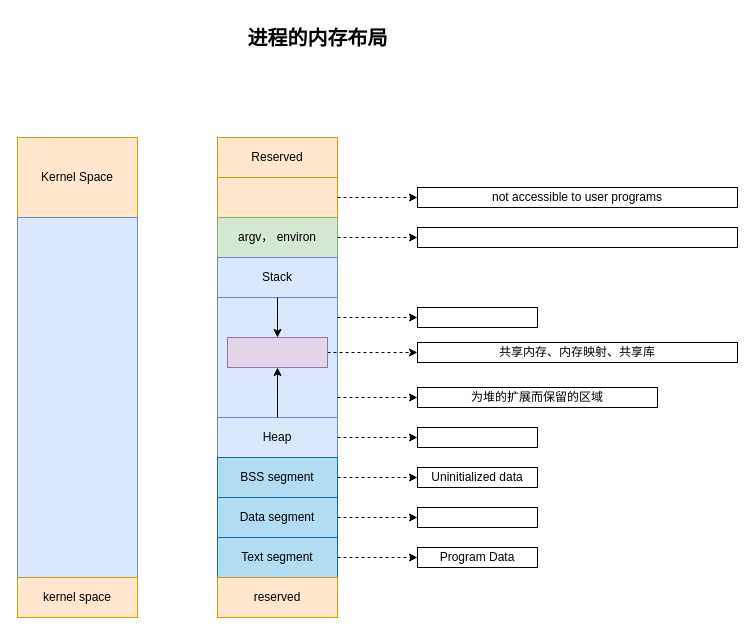
Image size: 755x635. Some labels were removed from this diagram. Each missing label, with the centre of its shape:
Initialized data: the point at 477,517
Kernel Data， text heap， stack: the point at 277,197
shared memory: the point at 277,352
User Space: the point at 77,397
命令行参数和环境变量: the point at 577,237
堆向上增长: the point at 477,437
栈向下增长: the point at 477,317
